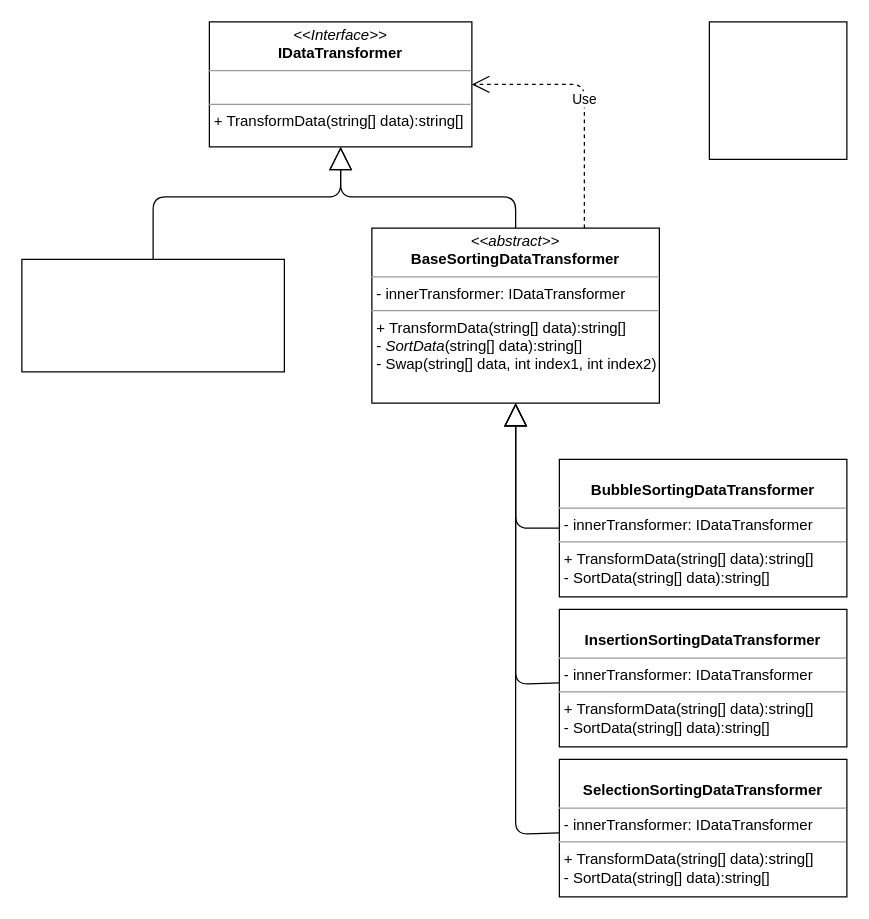
Image size: 869x919. Some labels were removed from this diagram. Here are the shapes that lost their labels. From the top down, the centre of each, then its label:
At point 777,90: "<<enumeration>> SortingMethod +Bubble +Insertion +Selection".
At point 152,315: "IdleDataTransformer + TransformData(string[] data):string[]".
